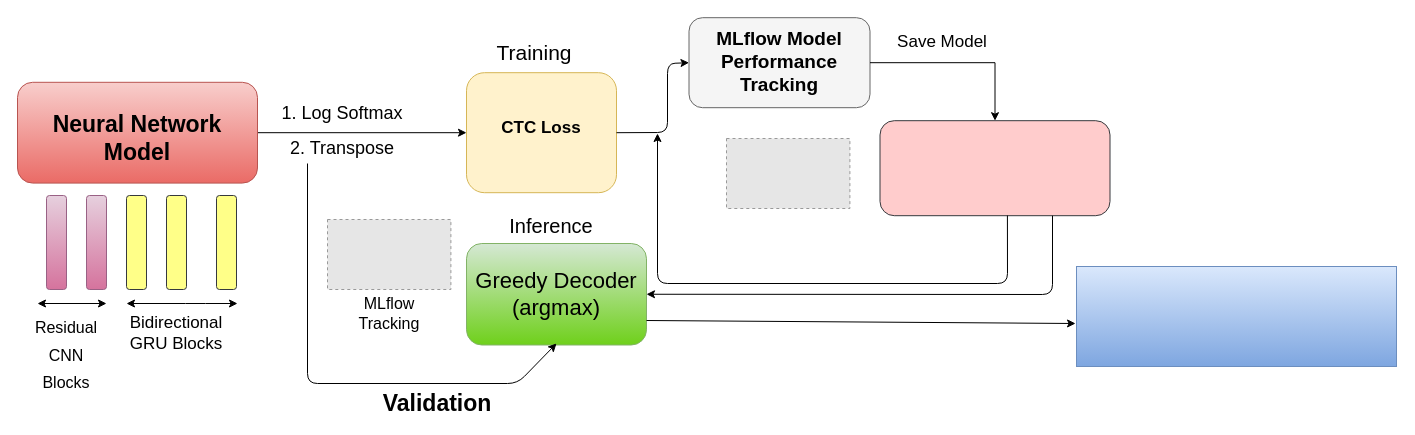
The diagram is 1415 pixels wide and 435 high, and some of its shapes have lost their labels. Grey dashed boxes stand in for pictures. The shapes that lost their labels are listed below. From the top down, each one's centre as x and y in pixels, then its label:
(x=994, y=168): MLflow Model registry (Production)
(x=1236, y=316): Output: "This an Awesome Project"
